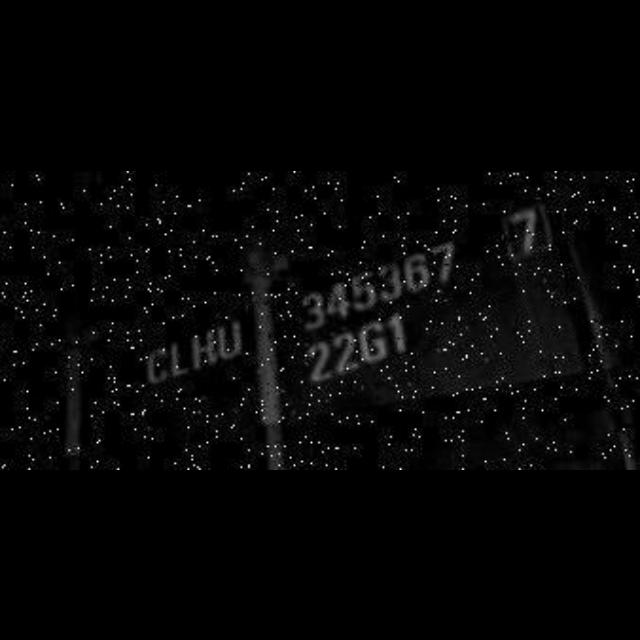1: (387, 309, 411, 361)
2: (308, 338, 334, 384), (332, 330, 358, 376)
3: (300, 286, 326, 334), (378, 261, 404, 305)
4: (328, 276, 350, 322)
5: (353, 268, 375, 316)
6: (405, 246, 431, 298)
7: (513, 203, 539, 257), (431, 240, 457, 284)
c: (140, 344, 170, 390)
g: (358, 320, 388, 364)
h: (190, 328, 218, 370)
l: (168, 338, 190, 382)
u: (216, 319, 244, 356)
